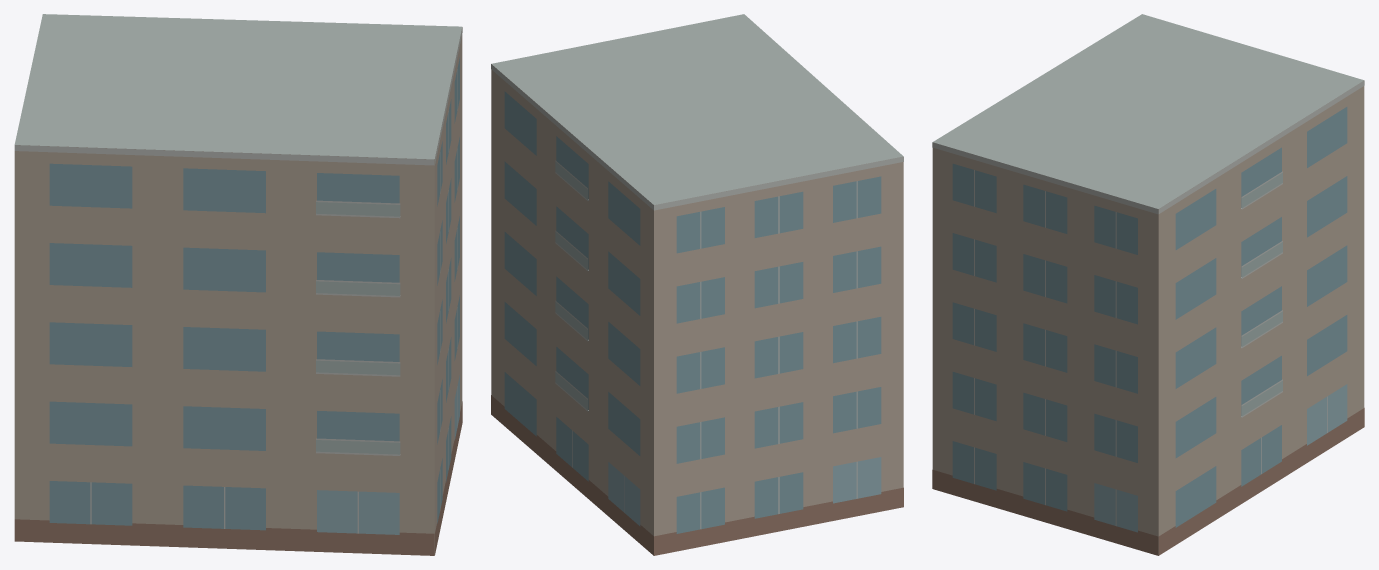
File: survey-upis-32976619.glb
3 renders of one model, left to right at view 1: azimuth 30°, elevation 25°; view 2: azimuth 150°, elevation 25°; view 3: azimuth 270°, elevation 25°, orthographic. The views are drawn at different scales.
Visible parts, largest first — view 1: survey-upis-32976619.tmp; view 2: survey-upis-32976619.tmp; view 3: survey-upis-32976619.tmp.
Part boxes in pixels (box(x1,y1,x2,y2)): survey-upis-32976619.tmp: box(14, 14, 462, 555); survey-upis-32976619.tmp: box(491, 14, 903, 555); survey-upis-32976619.tmp: box(932, 14, 1364, 555).
Size of the model in its own units: 19.19 by 15.9 by 17.96.
